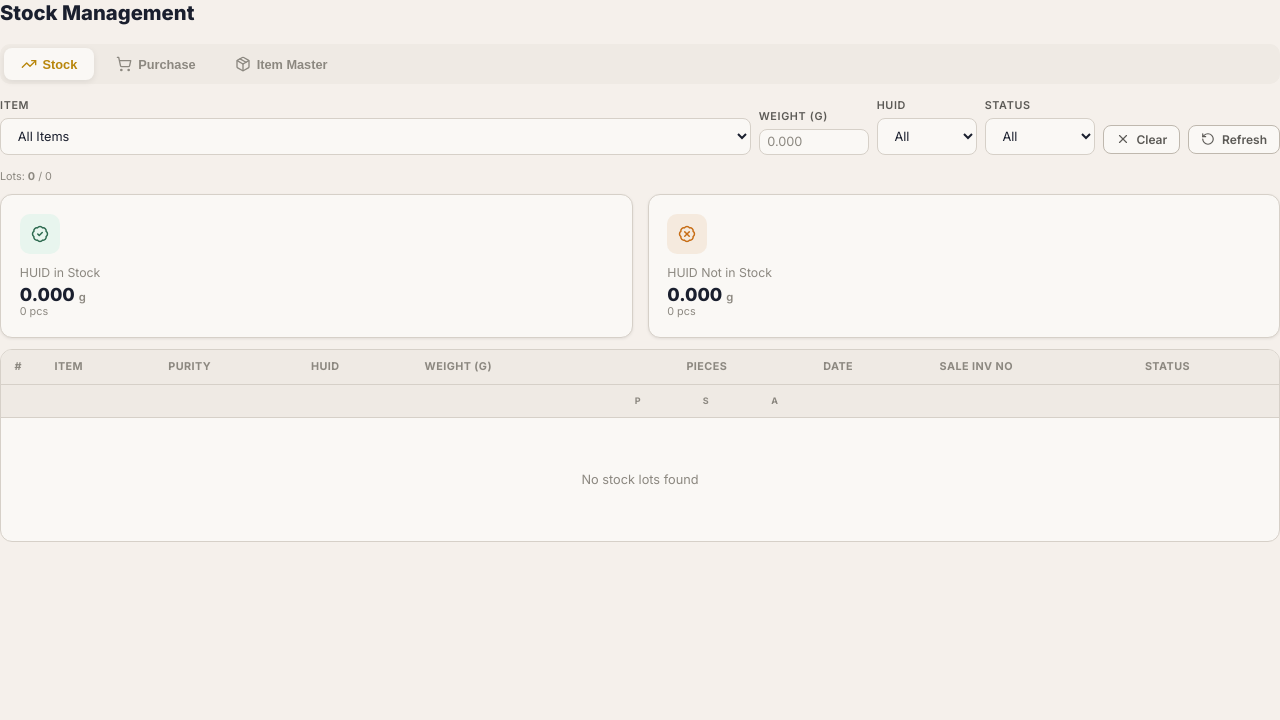
Test case: StockPage PurchaseTab › loads purchase history
This screenshot has width=1280, height=720.
Click the button "Purchase": (156, 64) [100,48,212,80]
(page scrolled)
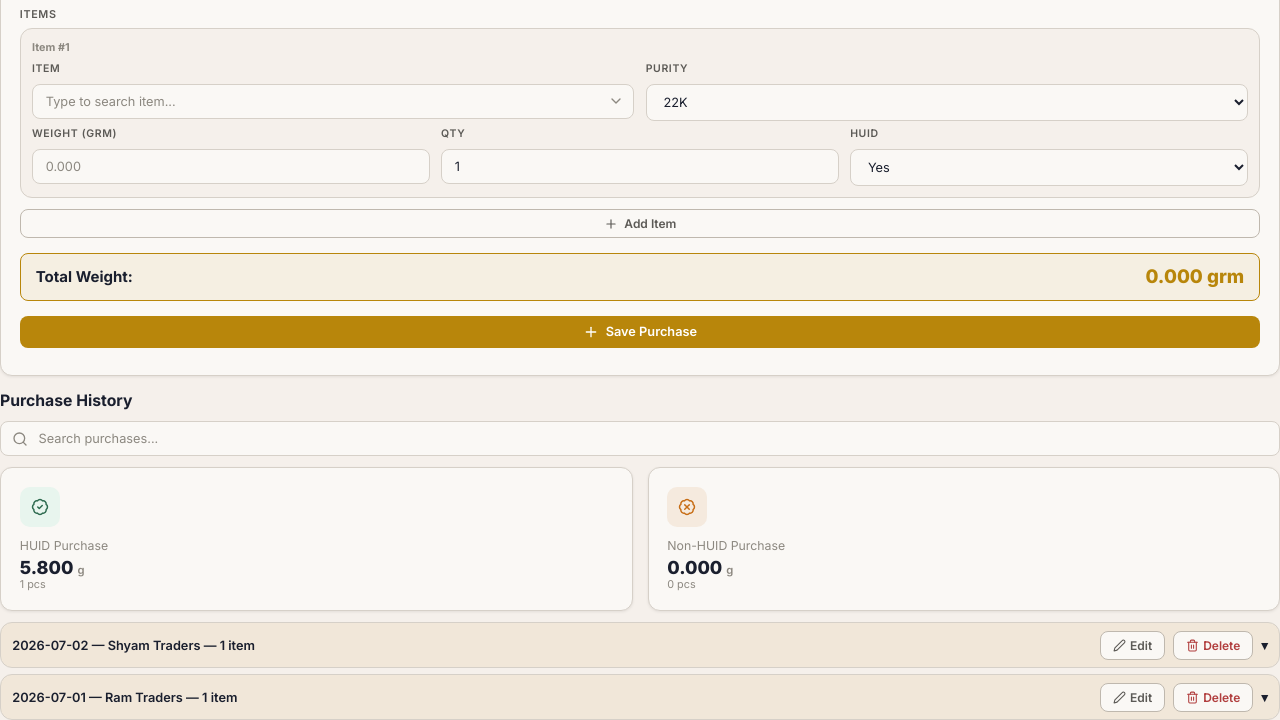
expect the text "2026-07-01 — Ram Traders — 1 item" is shown: met, box [12,690,238,705]
